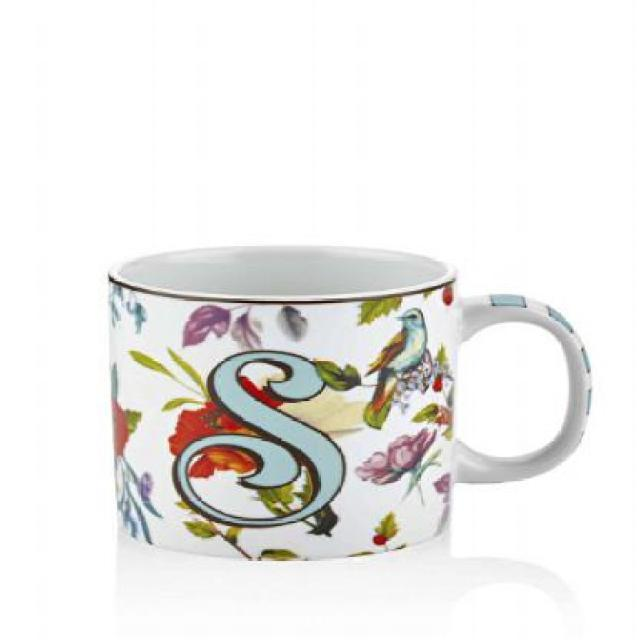taza: (102, 242, 596, 562)
